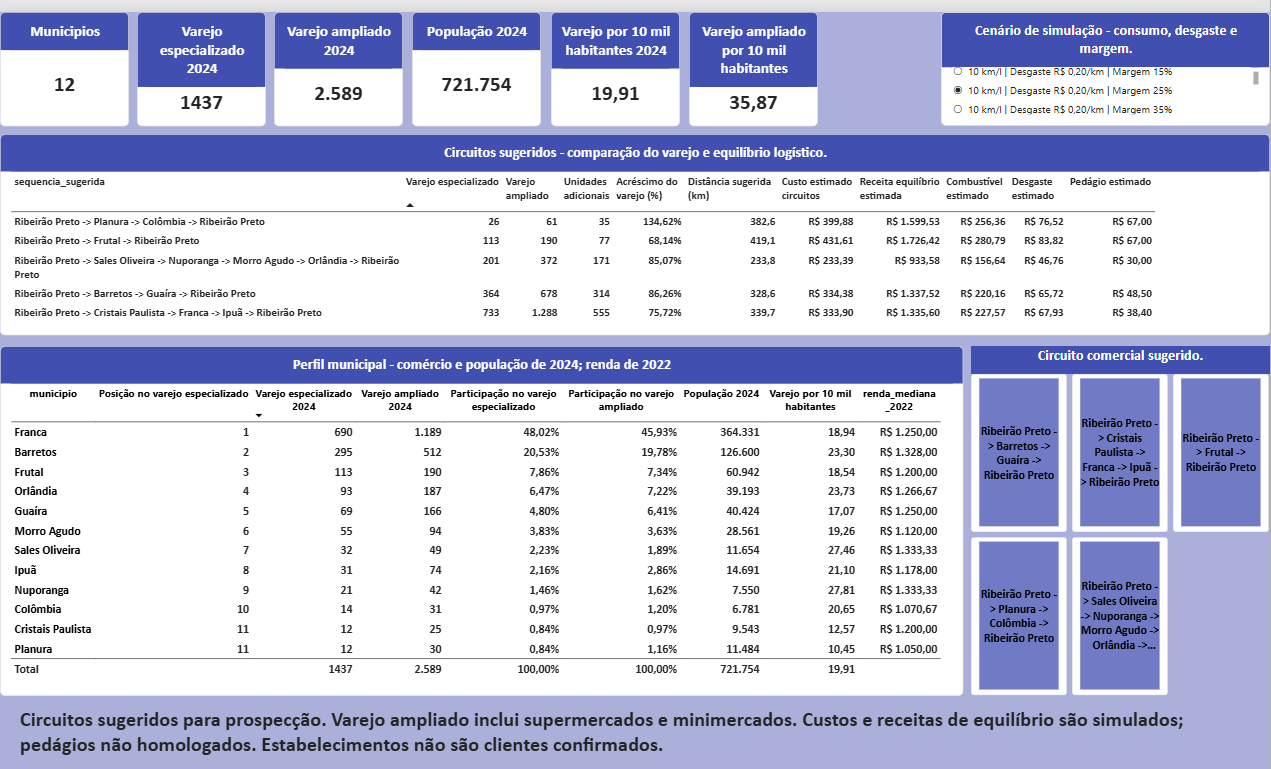

Layout of this report page (visuals, bound fields, positions):
{"tool":"powerbi","page":{"name":"Página 1","canvas":[2000,1200],"ordinal":0},"visuals":[{"type":"card","title":"Municipios","fields":{"Values":["vw_bi_municipio_comercial.Municípios analisados"]},"box":[0,0,203.1,179.5],"z":0},{"type":"card","title":"Varejo especializado 2024","fields":{"Values":["vw_bi_municipio_comercial.Varejo especializado 2024"]},"box":[215.7,0,203.1,179.5],"z":1000},{"type":"card","title":"População 2024","fields":{"Values":["vw_bi_municipio_comercial.População 2024"]},"box":[648.8,0,203.1,179.5],"z":2000},{"type":"card","title":"Varejo por 10 mil habitantes 2024","fields":{"Values":["vw_bi_municipio_comercial.Varejo por 10 mil habitantes"]},"box":[867.7,0,203.1,179.5],"z":3000},{"type":"tableEx","title":"Circuitos sugeridos - comparação do varejo e equilíbrio logístico. ","fields":{"Values":["vw_bi_circuito.sequencia_sugerida","vw_bi_municipio_comercial.Varejo especializado 2024","vw_bi_municipio_comercial.Varejo ampliado 2024","vw_bi_municipio_comercial.Unidades adicionais no varejo","vw_bi_municipio_comercial.Acréscimo do varejo (%)","vw_bi_circuito.km_sugeridos","vw_bi_custo_viagem_simulado.Custo estimado dos circuitos","vw_bi_custo_viagem_simulado.Receita de equilíbrio estimada","vw_bi_custo_viagem_simulado.Combustível estimado","vw_bi_custo_viagem_simulado.Desgaste estimado","vw_bi_custo_viagem_simulado.Pedágio estimado não homologado"]},"box":[0,192.1,2000,316.5],"z":4000},{"type":"tableEx","title":"Perfil municipal - comércio e população de 2024; renda de 2022","fields":{"Values":["vw_bi_municipio_comercial.municipio","vw_bi_municipio_comercial.Posição no varejo especializado","vw_bi_municipio_comercial.Varejo especializado 2024","vw_bi_municipio_comercial.Varejo ampliado 2024","vw_bi_municipio_comercial.Participação no varejo especializado","vw_bi_municipio_comercial.Participação no varejo ampliado","vw_bi_municipio_comercial.População 2024","vw_bi_municipio_comercial.Varejo por 10 mil habitantes","vw_bi_municipio_comercial.renda_mediana_2022"]},"box":[0,526,1516.5,551.2],"z":5000},{"type":"listSlicer","title":"Cenário de simulação - consumo, desgaste e margem.","fields":{"Values":["vw_bi_cenario_comercial.Cenário descrição"]},"box":[1481.9,0,517.9,178.9],"z":6000},{"type":"advancedSlicerVisual","title":"Circuito comercial sugerido. ","fields":{"Values":["vw_bi_circuito.sequencia_sugerida"]},"box":[1529.1,526,470.9,551.2],"z":7000},{"type":"textbox","box":[31.5,1094.5,1922.8,105.5],"z":8000},{"type":"card","title":"Varejo ampliado 2024","fields":{"Values":["vw_bi_municipio_comercial.Varejo ampliado 2024"]},"box":[431.5,0,203.1,179.5],"z":9000},{"type":"card","title":"Varejo ampliado por 10 mil habitantes","fields":{"Values":["vw_bi_municipio_comercial.Varejo ampliado por 10 mil habitantes"]},"box":[1085,0,203.1,179.5],"z":10000}]}

Visuals, with their boxes in screenshot pixels (x1, y1, x2, y2), scaled from the page's 2000x1200 canvas onto the 1271x769 screenshot:
"Municipios" card: box(0, 0, 129, 115)
"Varejo especializado 2024" card: box(137, 0, 266, 115)
"População 2024" card: box(412, 0, 541, 115)
"Varejo por 10 mil habitantes 2024" card: box(551, 0, 680, 115)
"Circuitos sugeridos - comparação do varejo e equilíbrio logístico. " tableEx: box(0, 123, 1270, 326)
"Perfil municipal - comércio e população de 2024; renda de 2022" tableEx: box(0, 337, 964, 690)
"Cenário de simulação - consumo, desgaste e margem." listSlicer: box(942, 0, 1270, 115)
"Circuito comercial sugerido. " advancedSlicerVisual: box(972, 337, 1270, 690)
textbox: box(20, 701, 1242, 768)
"Varejo ampliado 2024" card: box(274, 0, 403, 115)
"Varejo ampliado por 10 mil habitantes" card: box(690, 0, 819, 115)
